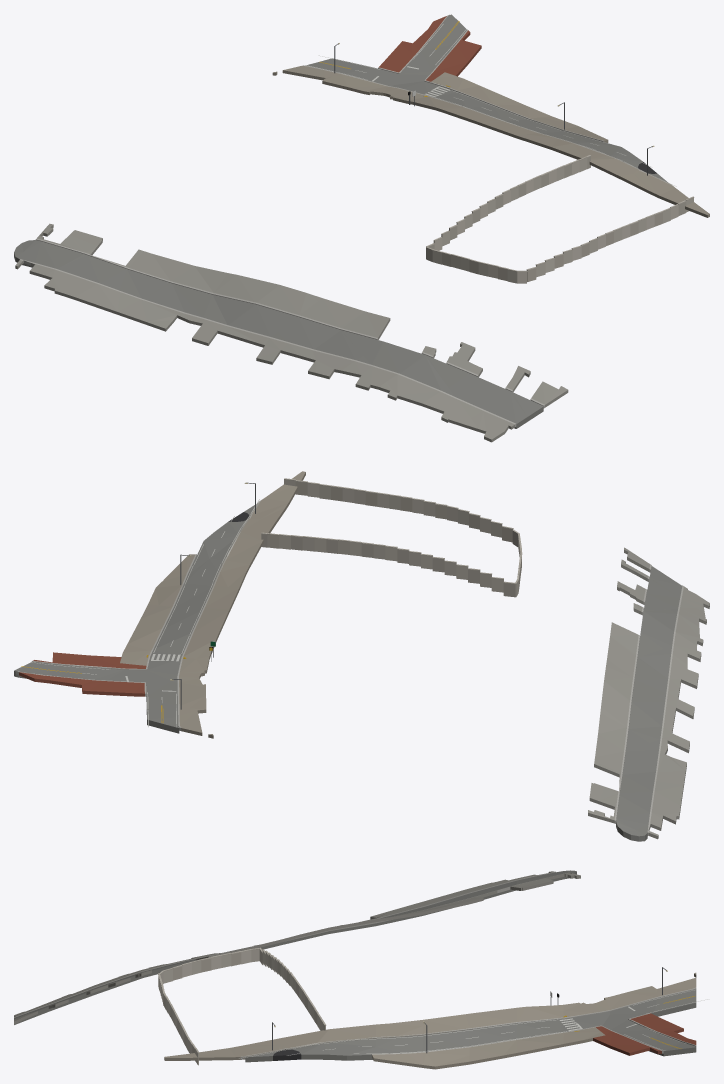
3 renders of one model, top to bottom at view 1: azimuth 30°, elevation 25°; view 2: azimuth 150°, elevation 25°; view 3: azimuth 270°, elevation 25°, orthographic. The views are drawn at different scales.
Size of the model in its own units: 129 by 32.32 by 149.
